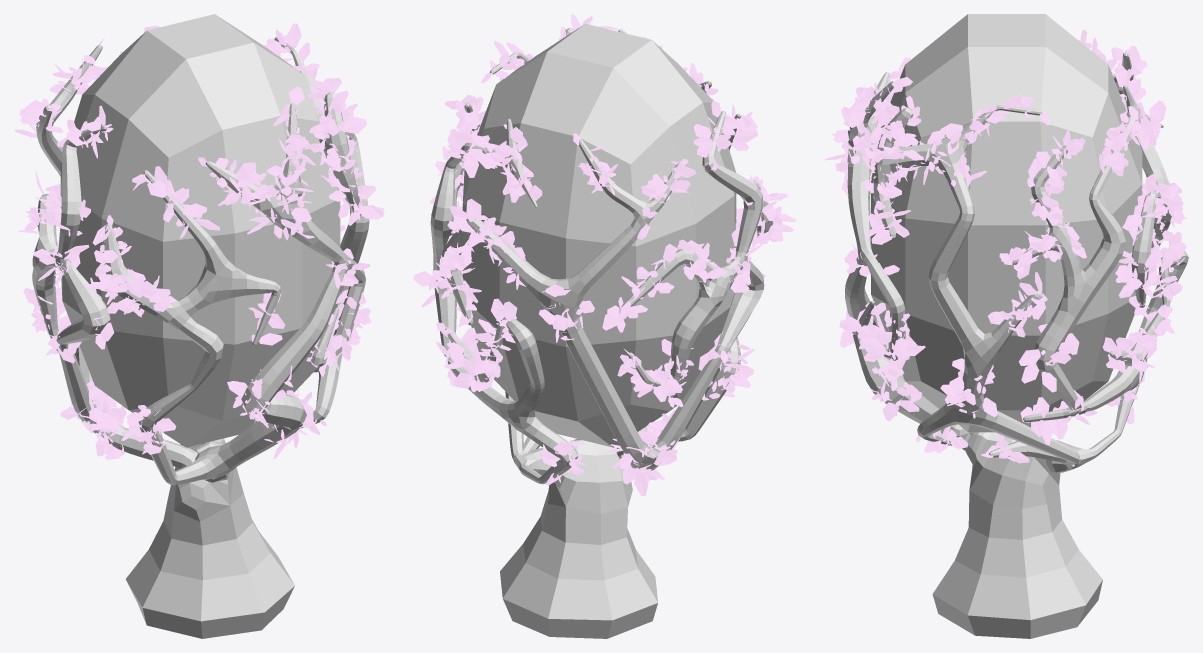
Rendered from TreeRelic.fbx.
3 views of the same model, side by side, from view 1: azimuth 30°, elevation 25°; view 2: azimuth 150°, elevation 25°; view 3: azimuth 270°, elevation 25° (orthographic). The views are drawn at different scales.
Parts seen in each view (by area): view 1: Plane.002; view 2: Plane.002; view 3: Plane.002.
Part boxes in pixels (x1,y1,x2,y2): Plane.002: [32, 14, 369, 638]; Plane.002: [430, 23, 773, 638]; Plane.002: [845, 14, 1188, 638].
Size of the model in its own units: 428 by 745 by 423.
